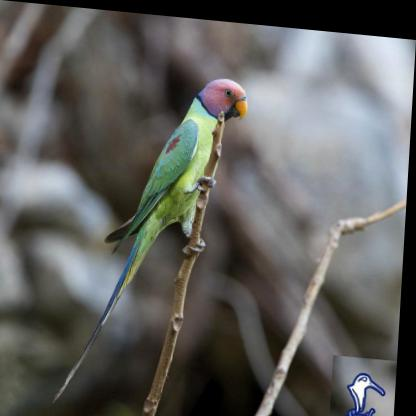Burung: (56, 61, 250, 415)
